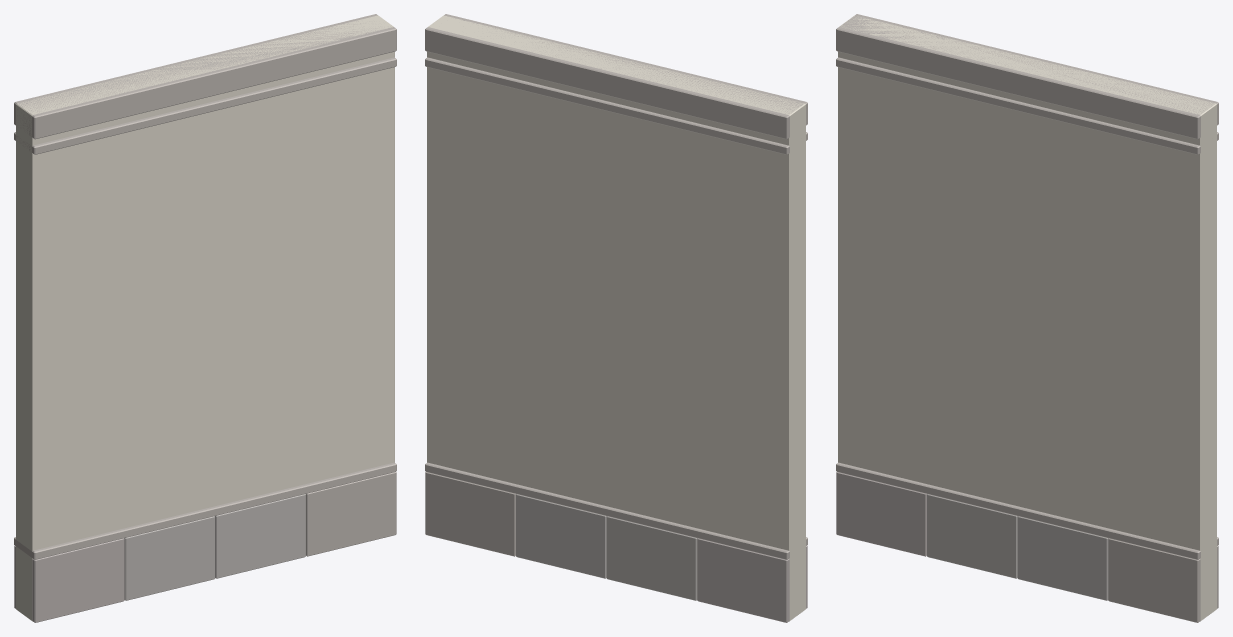
The model's file is desktop.glb.
3 renders of one model, left to right at view 1: azimuth 30°, elevation 25°; view 2: azimuth 150°, elevation 25°; view 3: azimuth 330°, elevation 25°, orthographic.
Bounding box in the file's own units: 3 × 4 × 0.3001.
1 material, 1 textured.
